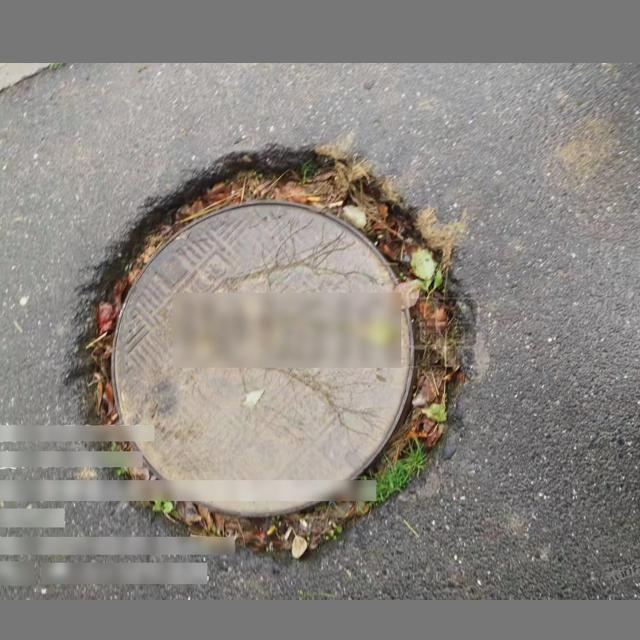circle: (62, 150, 476, 553)
